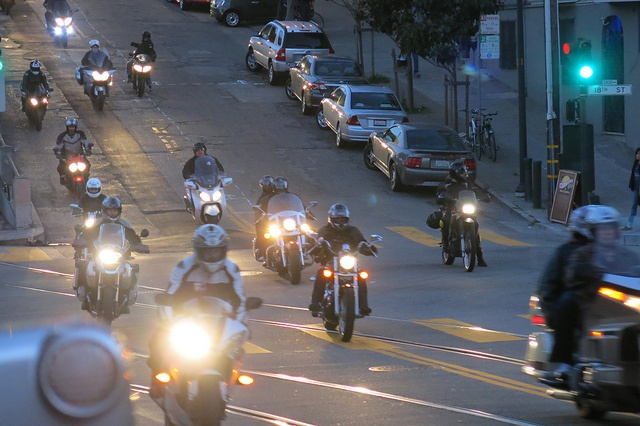non-vehicle: (524, 270, 640, 421), (148, 285, 262, 425), (298, 222, 385, 342), (71, 221, 147, 328), (249, 200, 324, 285), (426, 192, 492, 273), (177, 156, 231, 226), (49, 143, 96, 200), (74, 65, 117, 112), (17, 88, 55, 132), (124, 49, 155, 98), (44, 9, 80, 49), (66, 204, 106, 229)
